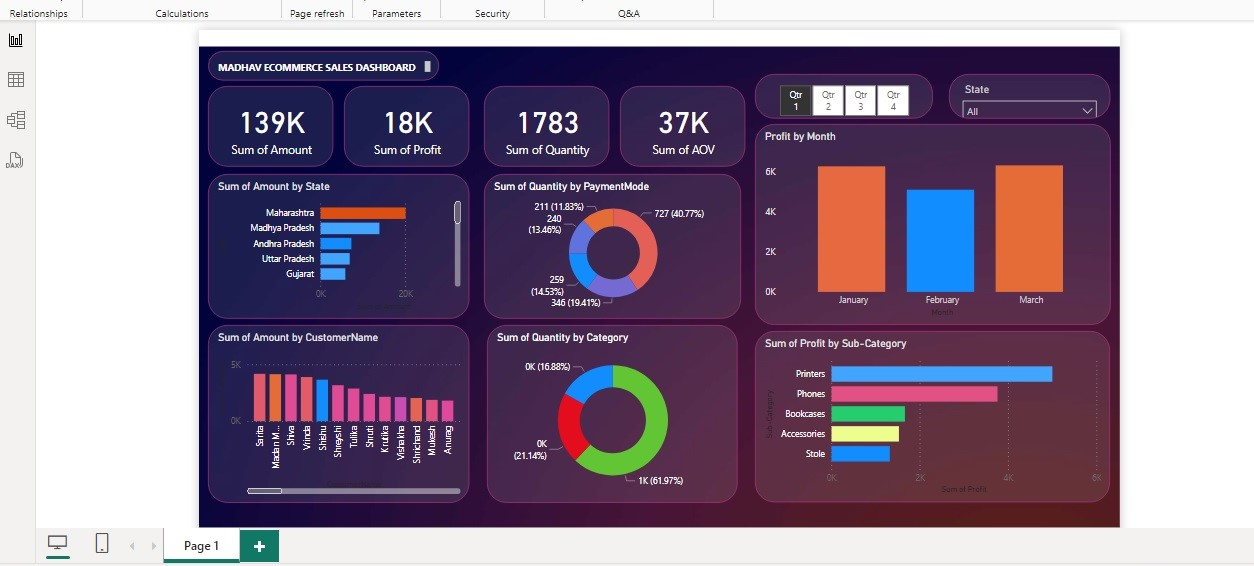

Layout of this report page (visuals, bound fields, positions):
{"tool":"powerbi","page":{"name":"Page 1","canvas":[1280,720],"ordinal":0},"visuals":[{"type":"textbox","box":[13.2,29,321.4,41.3],"z":0},{"type":"columnChart","title":"Profit by Month","fields":{"Y":["Sheet1.Profit"],"Category":["Sheet1 (2).Order Date.Variation.Date Hierarchy.Month"]},"box":[771.8,130.8,494.3,279.2],"z":1000},{"type":"barChart","fields":{"Category":["Sheet1.Sub-Category"],"Y":["Sheet1.Profit"]},"box":[772.4,418.1,493.2,238.1],"z":2000},{"type":"donutChart","fields":{"Category":["Sheet1.Category"],"Y":["Sheet1.Quantity"]},"box":[400.4,410,347.7,246.7],"z":3000},{"type":"donutChart","fields":{"Y":["Sheet1.Quantity"],"Category":["Sheet1.PaymentMode"]},"box":[395.4,199.8,357.2,201.3],"z":4000},{"type":"card","title":"SUM OF AMMOUNT","fields":{"Values":["Sheet1.Amount"]},"box":[12.8,78,174.3,112],"z":5000},{"type":"card","title":"SUM OF AMMOUNT","fields":{"Values":["Sheet1.Profit"]},"box":[201.3,78,174.3,112],"z":6000},{"type":"card","title":"SUM OF AMMOUNT","fields":{"Values":["Sheet1.Quantity"]},"box":[395.4,78,174.3,112],"z":7000},{"type":"card","title":"SUM OF AMMOUNT","fields":{"Values":["Sheet1.AOV"]},"box":[585.4,78,174.3,112],"z":8000},{"type":"barChart","fields":{"Category":["Sheet1 (2).State"],"Y":["Sheet1.Amount"]},"box":[12.8,199.8,362.8,201.3],"z":9000},{"type":"columnChart","fields":{"Category":["Sheet1 (2).CustomerName"],"Y":["Sheet1.Amount"]},"box":[12.8,409.6,362.8,246.6],"z":10000},{"type":"slicer","fields":{"Values":["Sheet1 (2).State"]},"box":[1041.7,60.9,223.9,62.4],"z":11000},{"type":"slicer","fields":{"Values":["Sheet1 (2).Order Date.Variation.Date Hierarchy.Quarter"]},"box":[772.4,60.9,246.6,62.4],"z":12000}]}

Visuals, with their boxes on the page's 1280x720 design canvas (x1, y1, x2, y2). These are canvas units, not pixel positions in the 1254x566 screenshot, which may show the page scaled, cropped or inside an application window:
textbox: (13,29,335,70)
"Profit by Month" columnChart: (772,131,1266,410)
barChart - Sheet1.Sub-Category x Sheet1.Profit: (772,418,1266,656)
donutChart - Sheet1.Category x Sheet1.Quantity: (400,410,748,657)
donutChart - Sheet1.Quantity x Sheet1.PaymentMode: (395,200,753,401)
"SUM OF AMMOUNT" card: (13,78,187,190)
"SUM OF AMMOUNT" card: (201,78,376,190)
"SUM OF AMMOUNT" card: (395,78,570,190)
"SUM OF AMMOUNT" card: (585,78,760,190)
barChart - Sheet1 (2).State x Sheet1.Amount: (13,200,376,401)
columnChart - Sheet1 (2).CustomerName x Sheet1.Amount: (13,410,376,656)
slicer - Sheet1 (2).State: (1042,61,1266,123)
slicer - Sheet1 (2).Order Date.Variation.Date Hierarchy.Quarter: (772,61,1019,123)
